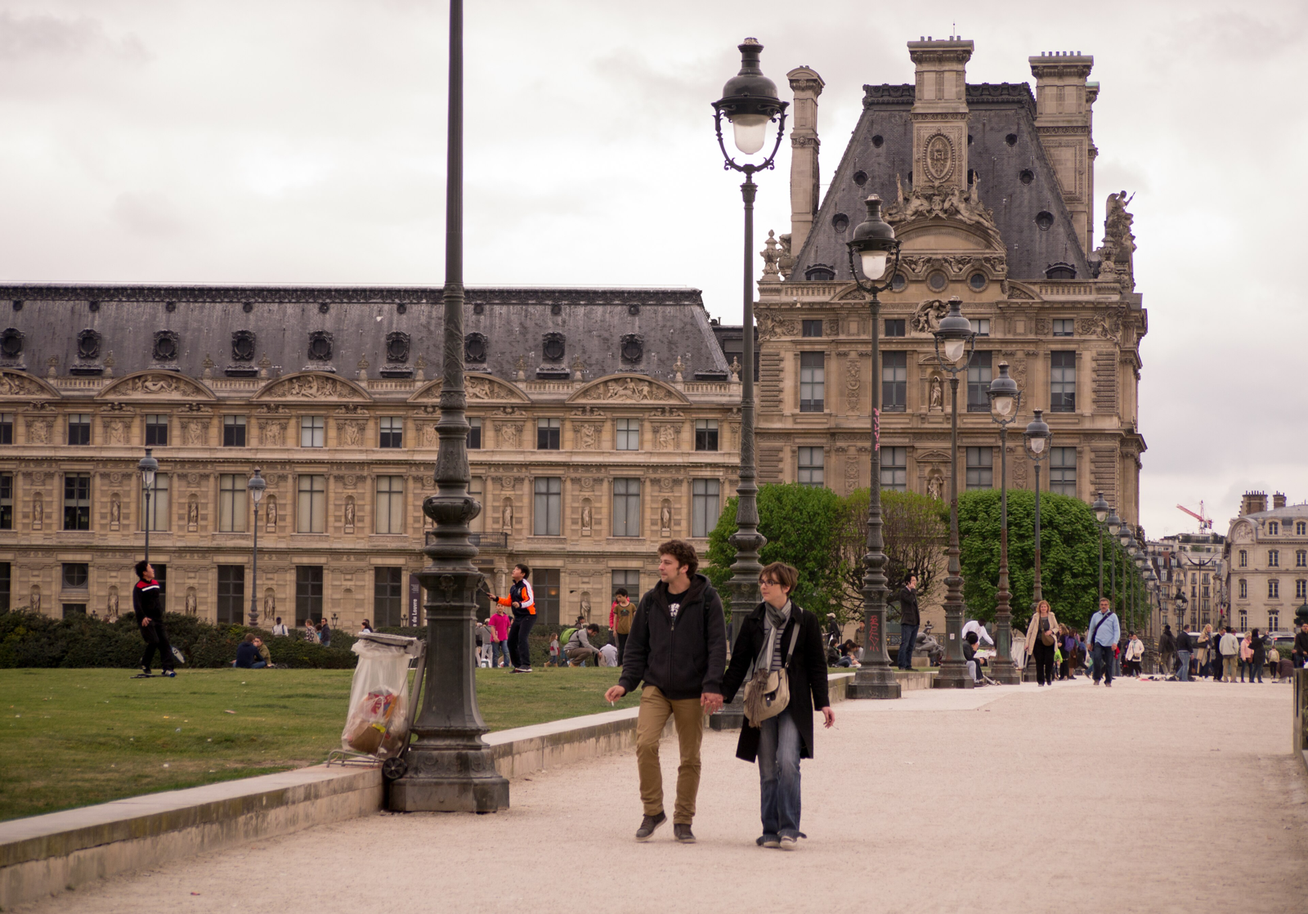fachada: (8, 274, 760, 642), (742, 4, 1144, 638), (1147, 466, 1308, 672)
poste: (372, 2, 511, 809), (697, 29, 779, 589), (844, 178, 920, 683), (930, 278, 977, 683), (983, 352, 1030, 683), (1024, 401, 1083, 652), (1120, 523, 1183, 660), (1079, 491, 1116, 640)
